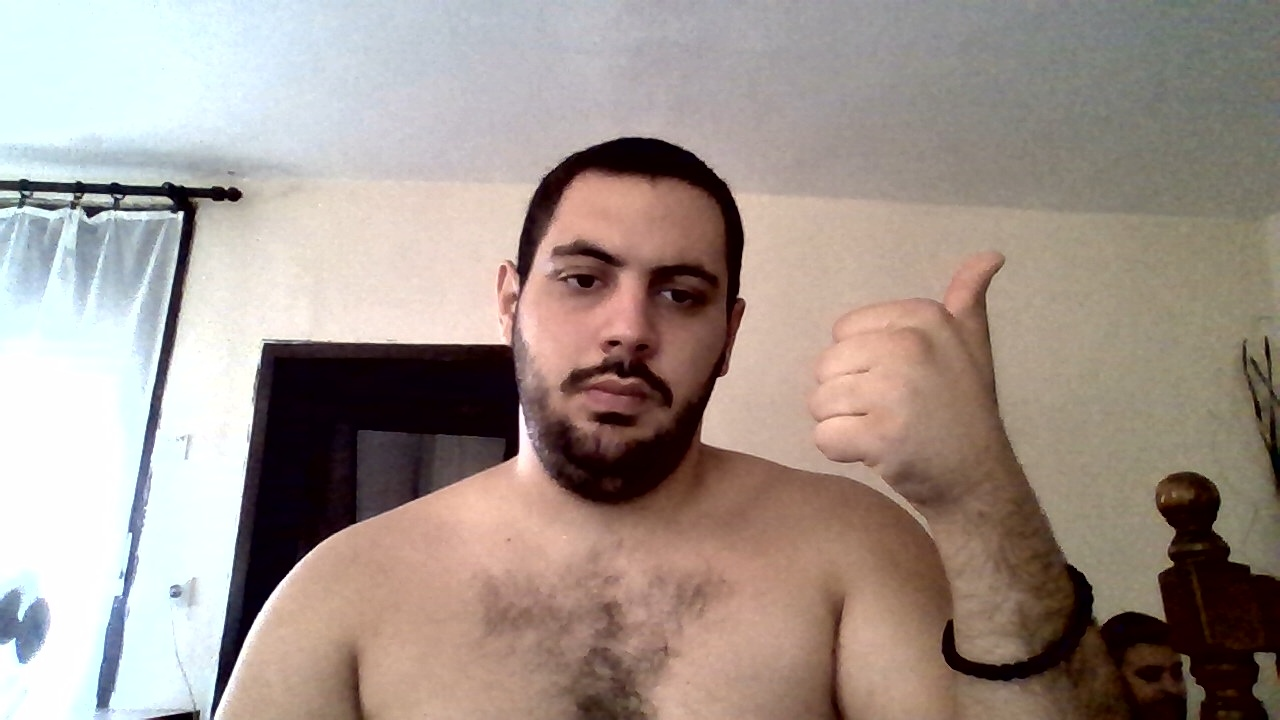like: (808, 249, 1023, 478)
